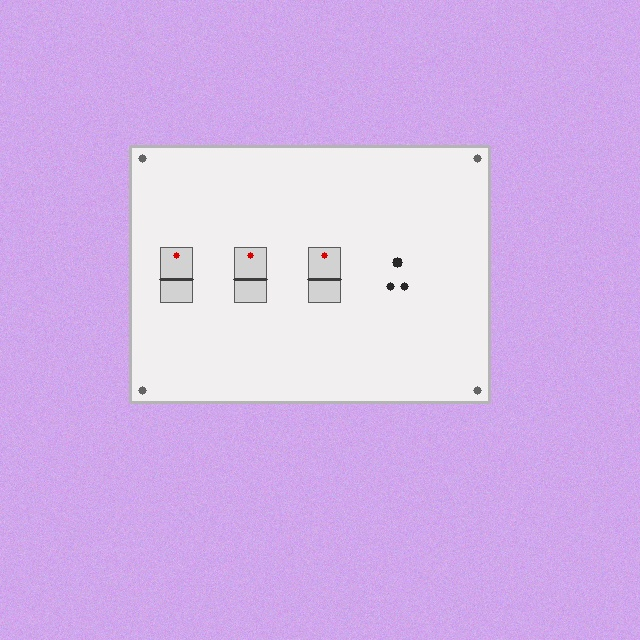switchboard: (130, 146, 489, 402)
